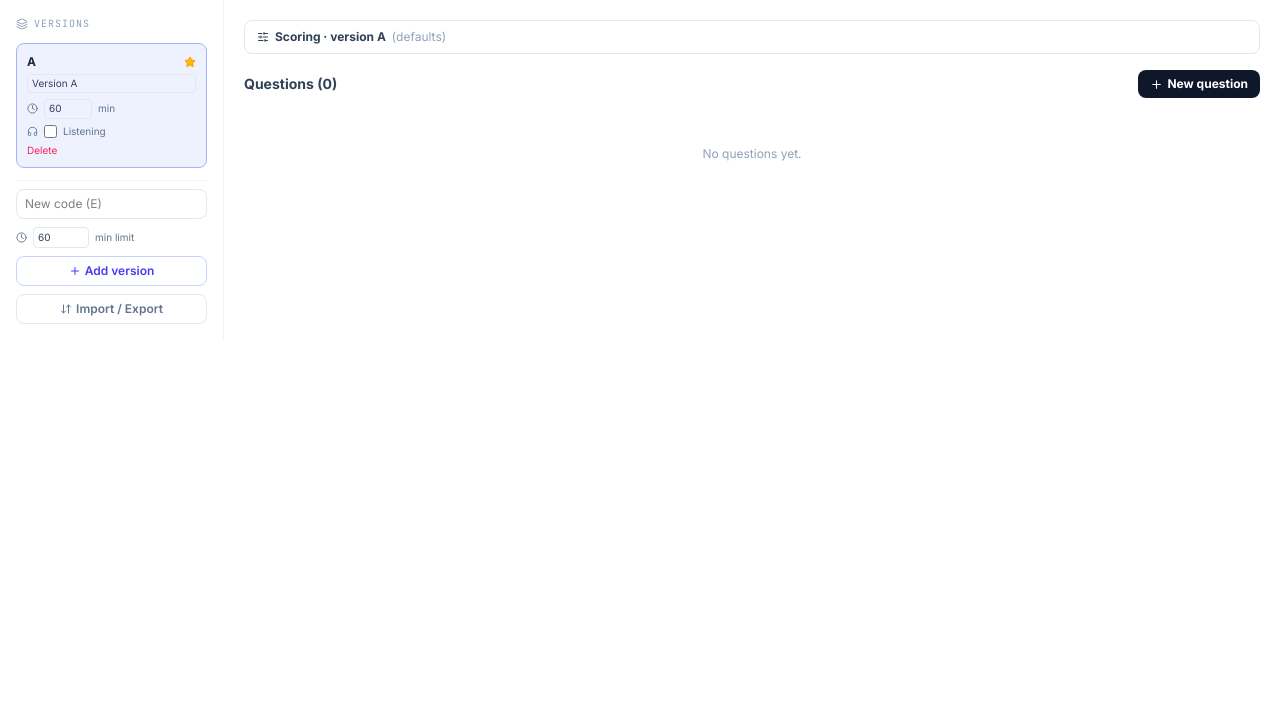
Scenario: QuestionBankTab — per-version duration › opens the import/export modal from the sidebar, and selects the imported version
Expected: the text "A" is shown, x1=27 y1=54 x2=36 y2=70
Click the button "Import / Export".
click(112, 309)  # box x1=16 y1=294 x2=207 y2=324
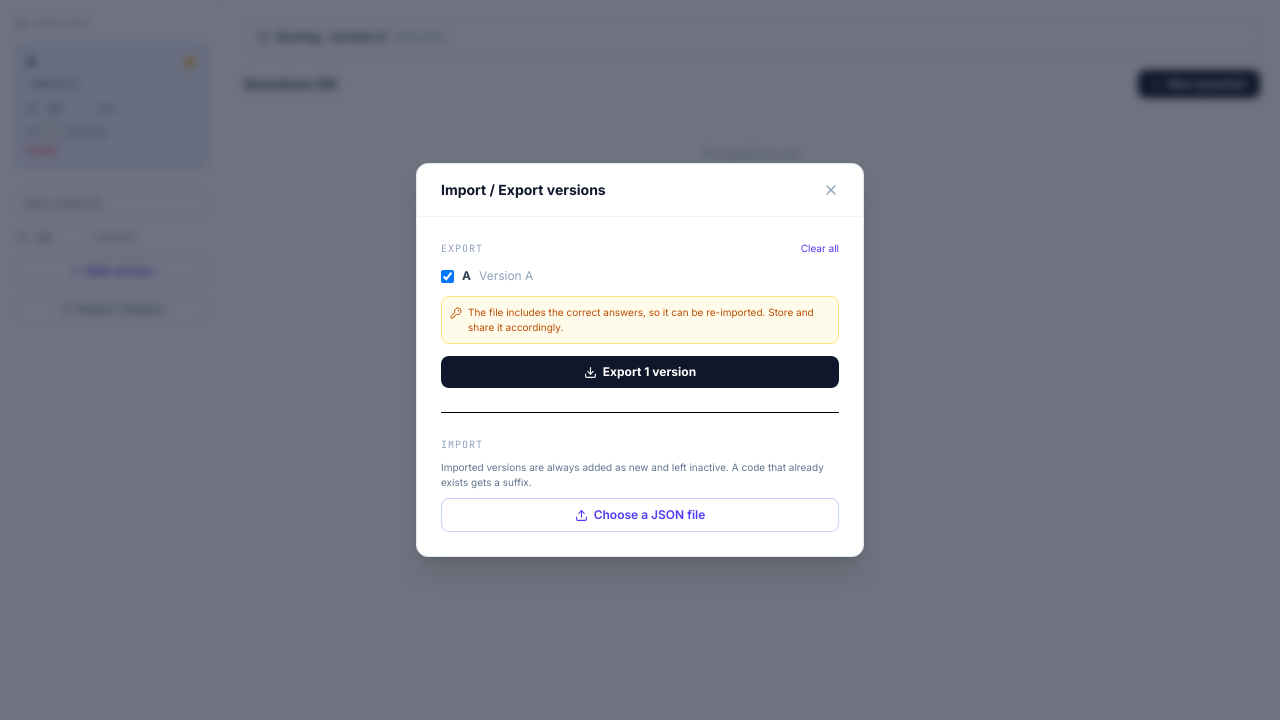
Expected: the heading "Import / Export versions" is shown, x1=441 y1=180 x2=606 y2=200
